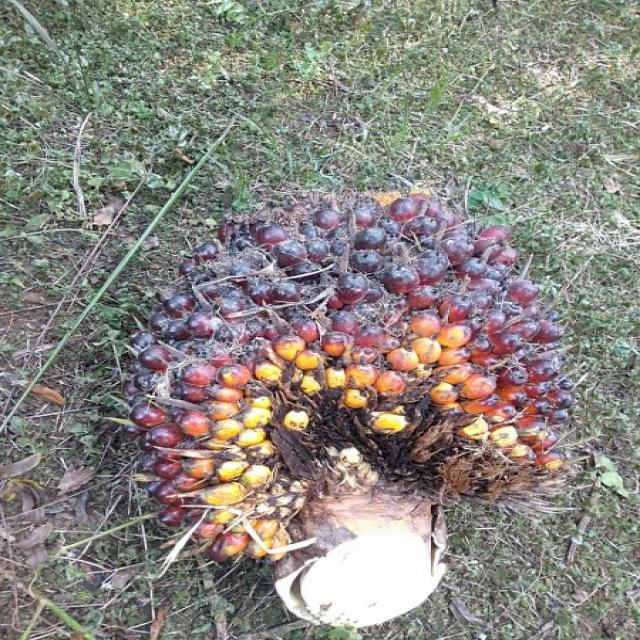fraksi 1: (38, 105, 635, 588)
